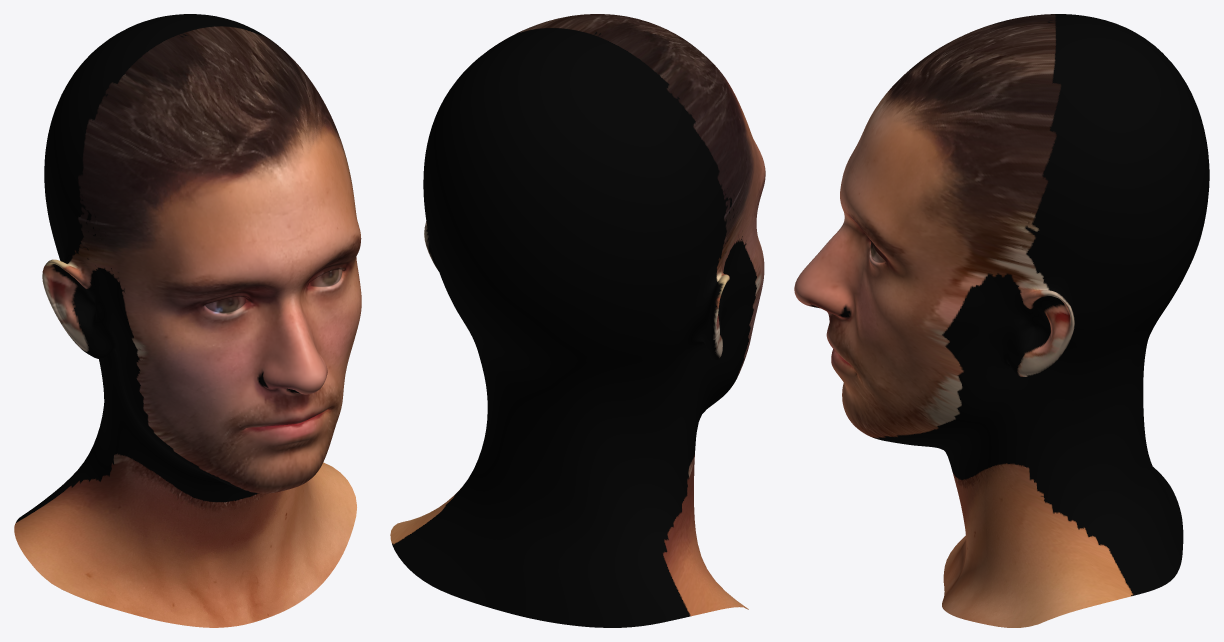
File: faceobj.glb
3 views of the same model, side by side, from view 1: azimuth 30°, elevation 25°; view 2: azimuth 150°, elevation 25°; view 3: azimuth 270°, elevation 25° (orthographic). The views are drawn at different scales.
Parts seen in each view (by area): view 1: FBHead; view 2: FBHead; view 3: FBHead.
Part boxes in pixels (left/top/right/bottom): FBHead: left=14, top=14, right=361, bottom=627; FBHead: left=390, top=14, right=765, bottom=627; FBHead: left=794, top=14, right=1209, bottom=627.
Size of the model in its own units: 1.91 by 3.16 by 2.1.
1 material, 1 textured.
